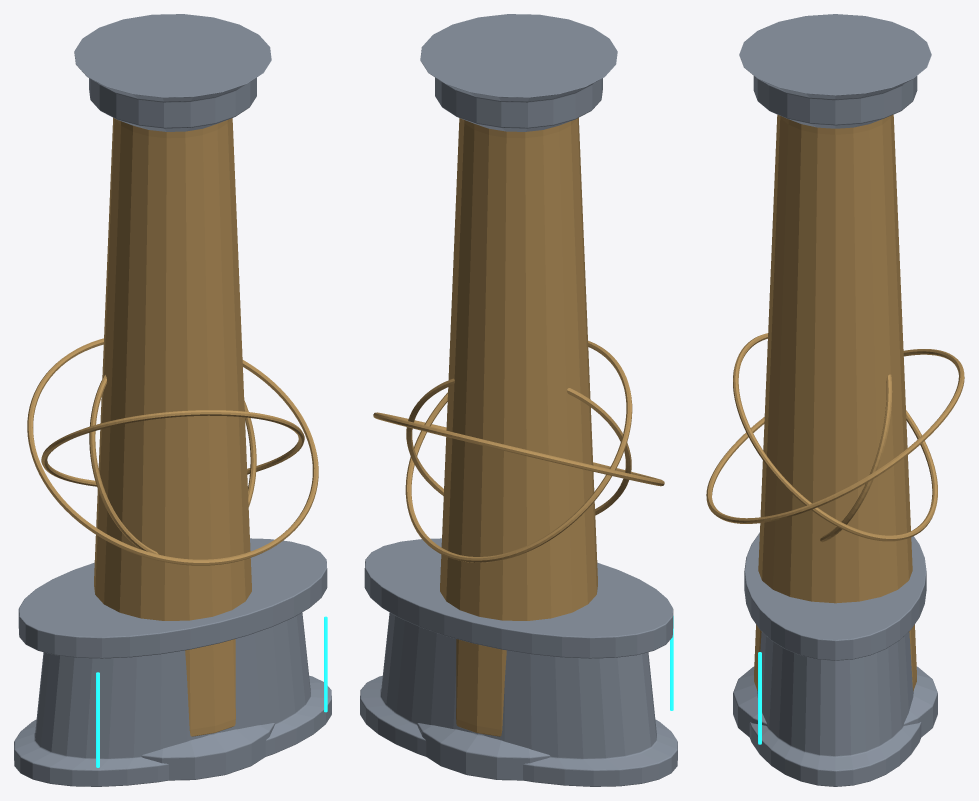
Rendered from forge-kit.glb.
The picture shows the model from 3 angles, left to right: view 1: azimuth 30°, elevation 25°; view 2: azimuth 150°, elevation 25°; view 3: azimuth 270°, elevation 25°; orthographic projection. The views are drawn at different scales.
Visible parts, largest first — view 1: pillar_trim, altar, pillar, orbit_0, orbit_1, orbit_2; view 2: pillar_trim, altar, pillar, orbit_1, orbit_0, orbit_2; view 3: pillar_trim, altar, pillar, orbit_0, orbit_1, orbit_2.
Boxes of the visible parts, bbox=[...] form: pillar_trim: bbox=[94, 117, 251, 736]; altar: bbox=[14, 538, 331, 786]; pillar: bbox=[74, 14, 274, 780]; orbit_0: bbox=[27, 338, 318, 565]; orbit_1: bbox=[41, 410, 304, 486]; orbit_2: bbox=[89, 375, 256, 554]; pillar_trim: bbox=[440, 117, 597, 736]; altar: bbox=[360, 538, 677, 786]; pillar: bbox=[417, 14, 617, 780]; orbit_1: bbox=[405, 340, 632, 562]; orbit_0: bbox=[373, 412, 664, 486]; orbit_2: bbox=[406, 378, 631, 515]; pillar_trim: bbox=[754, 114, 916, 691]; altar: bbox=[744, 532, 926, 786]; pillar: bbox=[733, 14, 937, 737]; orbit_0: bbox=[706, 349, 964, 523]; orbit_1: bbox=[733, 333, 937, 541]; orbit_2: bbox=[820, 374, 892, 542].
Bounding box in the file's own units: 3 × 6.74 × 2.27.
